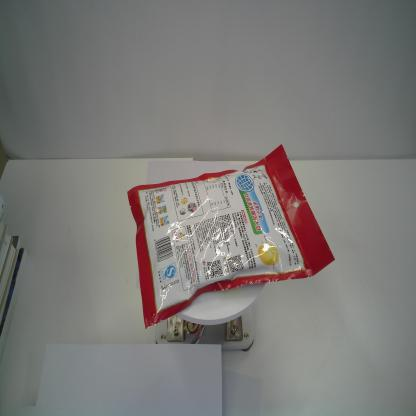Instant Drink: (127, 141, 336, 330)
